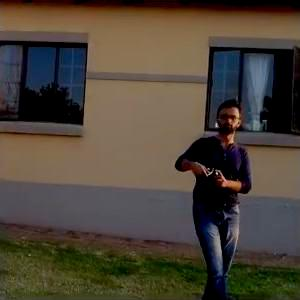follow: (170, 90, 256, 298)
